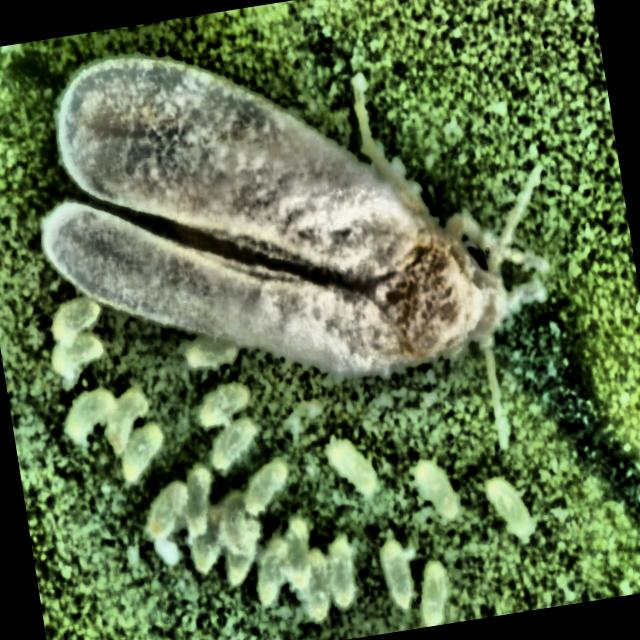egg: (100, 383, 158, 458), (210, 488, 266, 562), (203, 412, 266, 477), (249, 528, 300, 608), (140, 476, 198, 546), (59, 383, 121, 448), (483, 472, 538, 544), (114, 419, 171, 488), (325, 433, 379, 503), (236, 454, 295, 518), (411, 456, 462, 526), (48, 328, 108, 386), (192, 378, 255, 432), (46, 292, 106, 346), (321, 536, 363, 612), (378, 537, 418, 615), (179, 462, 221, 534), (412, 560, 454, 628), (180, 330, 242, 374), (278, 517, 318, 585), (186, 522, 226, 578), (297, 568, 335, 626), (222, 542, 260, 590), (152, 532, 181, 569), (434, 492, 462, 523), (420, 598, 446, 628), (356, 472, 380, 498), (302, 400, 322, 420)
whitefly: (11, 0, 592, 477)
